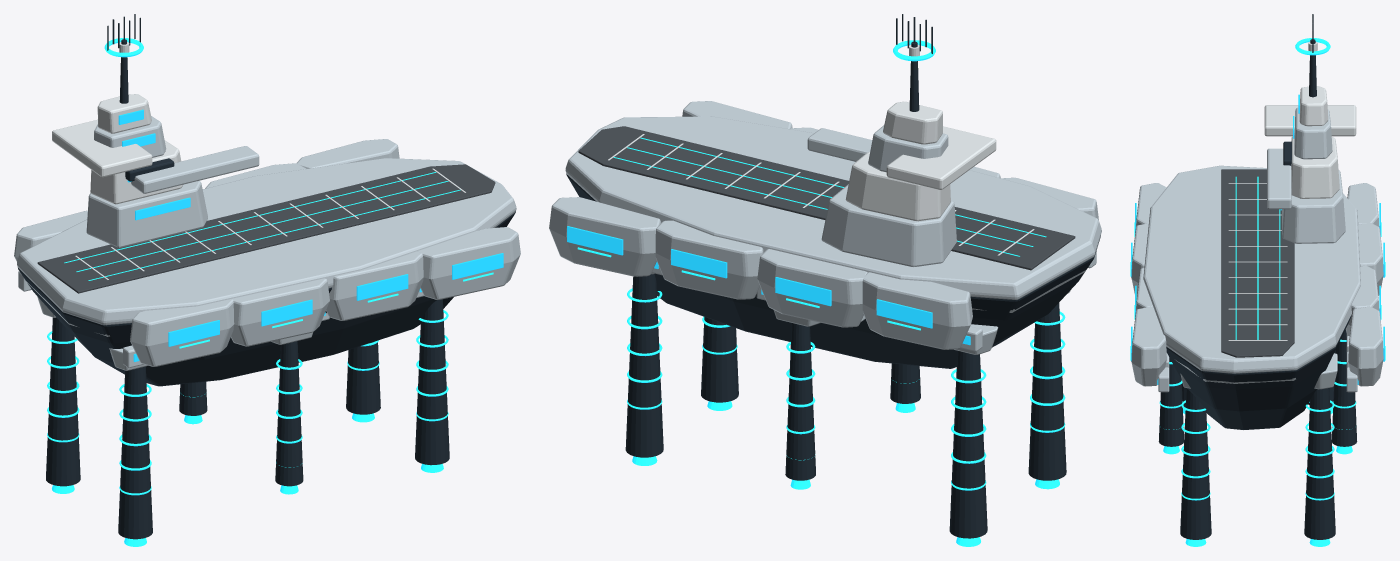
Rendered from vanguard-ozone-carrier-v3.glb.
3 renders of one model, left to right at view 1: azimuth 30°, elevation 25°; view 2: azimuth 150°, elevation 25°; view 3: azimuth 270°, elevation 25°, orthographic. The views are drawn at different scales.
Parts seen in each view (by area): view 1: Vanguard white upper hull, Vanguard inset flight runway, Vanguard primary armored hull, Vanguard island armored foundation, Vanguard launch gallery.003, Vanguard orbital lift pylon, Vanguard launch gallery, Vanguard orbital lift pylon.001, Vanguard orbital lift pylon.004, Vanguard launch gallery.001, Vanguard launch gallery.002, Vanguard orbital lift pylon.002 (+14 smaller); view 2: Vanguard white upper hull, Vanguard inset flight runway, Vanguard primary armored hull, Vanguard island armored foundation, Vanguard launch gallery.007, Vanguard launch gallery.004, Vanguard orbital lift pylon.001, Vanguard orbital lift pylon.005, Vanguard launch gallery.005, Vanguard launch gallery.006, Vanguard orbital lift pylon, Vanguard island operations tier (+13 smaller); view 3: Vanguard white upper hull, Vanguard inset flight runway, Vanguard primary armored hull, Vanguard orbital lift pylon.005, Vanguard orbital lift pylon.004, Vanguard island armored foundation, Vanguard launch gallery.007, Vanguard launch gallery.003, Vanguard island operations tier, Vanguard aft sensor wing, Vanguard orbital lift pylon.003, Vanguard orbital lift pylon.002 (+14 smaller).
Boxes of the visible parts, x1,y1,x2,y2 form: Vanguard white upper hull: (17, 158, 516, 336); Vanguard inset flight runway: (37, 164, 495, 293); Vanguard primary armored hull: (18, 211, 515, 386); Vanguard island armored foundation: (86, 180, 207, 247); Vanguard launch gallery.003: (418, 227, 520, 299); Vanguard orbital lift pylon: (118, 366, 152, 539); Vanguard launch gallery: (130, 299, 234, 366); Vanguard orbital lift pylon.001: (46, 317, 80, 486); Vanguard orbital lift pylon.004: (415, 299, 449, 465); Vanguard launch gallery.001: (231, 278, 329, 346); Vanguard launch gallery.002: (326, 251, 423, 320); Vanguard orbital lift pylon.002: (275, 341, 303, 486); Vanguard white upper hull: (565, 116, 1101, 312); Vanguard inset flight runway: (578, 126, 1075, 270); Vanguard primary armored hull: (566, 173, 1100, 368); Vanguard island armored foundation: (821, 184, 956, 267); Vanguard launch gallery.007: (549, 197, 660, 276); Vanguard launch gallery.004: (862, 272, 972, 349); Vanguard orbital lift pylon.001: (949, 350, 987, 538); Vanguard orbital lift pylon.005: (625, 274, 663, 457); Vanguard launch gallery.005: (757, 249, 867, 327); Vanguard launch gallery.006: (655, 220, 763, 299); Vanguard orbital lift pylon: (1028, 303, 1066, 480); Vanguard island operations tier: (845, 152, 950, 221); Vanguard white upper hull: (1143, 165, 1360, 383); Vanguard inset flight runway: (1221, 169, 1294, 357); Vanguard primary armored hull: (1166, 315, 1351, 429); Vanguard orbital lift pylon.005: (1304, 388, 1335, 539); Vanguard orbital lift pylon.004: (1180, 388, 1211, 539); Vanguard island armored foundation: (1282, 170, 1345, 243); Vanguard launch gallery.007: (1348, 306, 1383, 386); Vanguard launch gallery.003: (1131, 306, 1166, 386); Vanguard island operations tier: (1291, 136, 1339, 198); Vanguard aft sensor wing: (1264, 105, 1356, 136); Vanguard orbital lift pylon.003: (1331, 329, 1357, 446); Vanguard orbital lift pylon.002: (1158, 358, 1184, 446).
Bounding box in the file's own units: 921 × 904 × 502.
